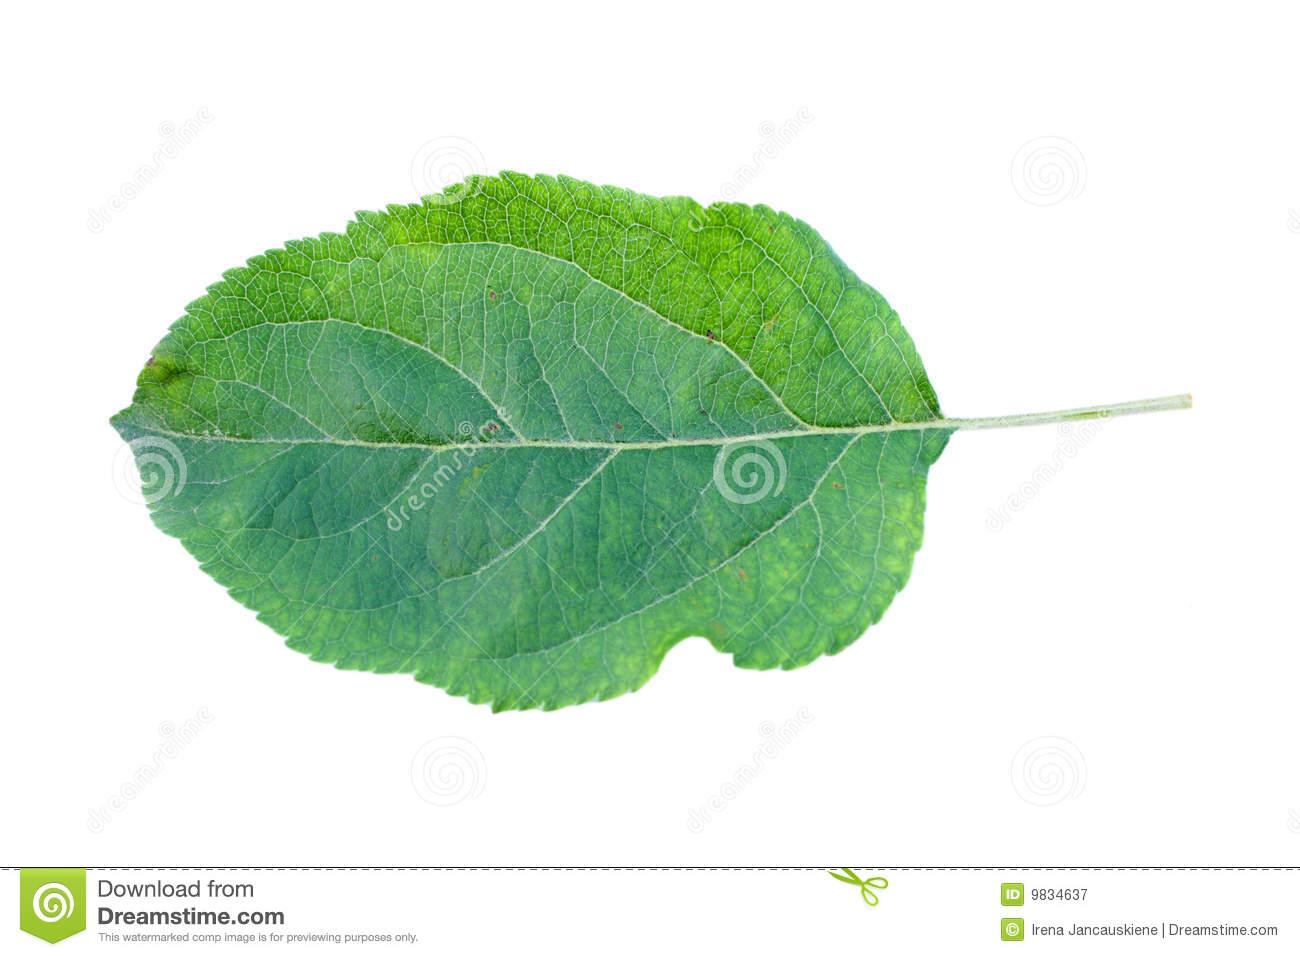Apple leaf: (98, 157, 1204, 729)
